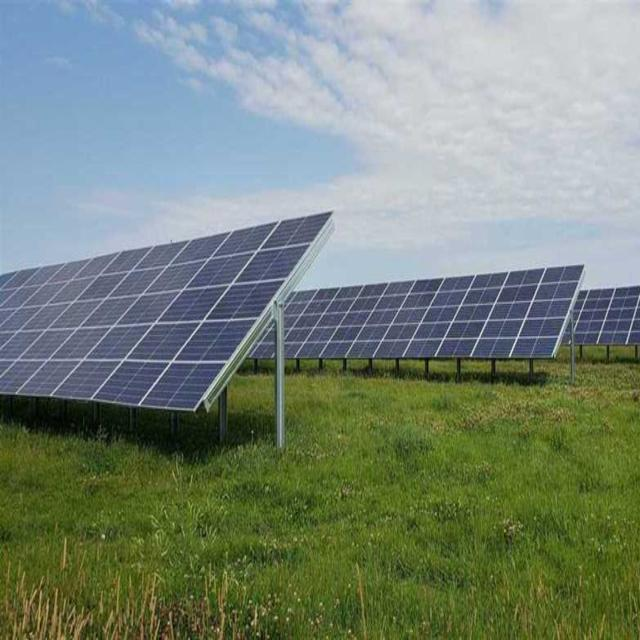clean-solar-panel: (0, 212, 332, 410)
